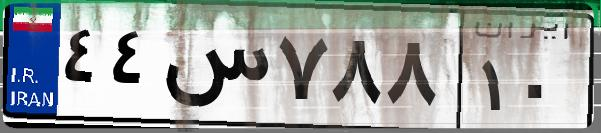0: (525, 38, 570, 115)
1: (475, 38, 525, 113)
4: (57, 26, 110, 100), (110, 28, 158, 98)
7: (270, 28, 330, 110)
8: (385, 28, 445, 110), (330, 28, 385, 110)
س: (158, 20, 270, 120)
